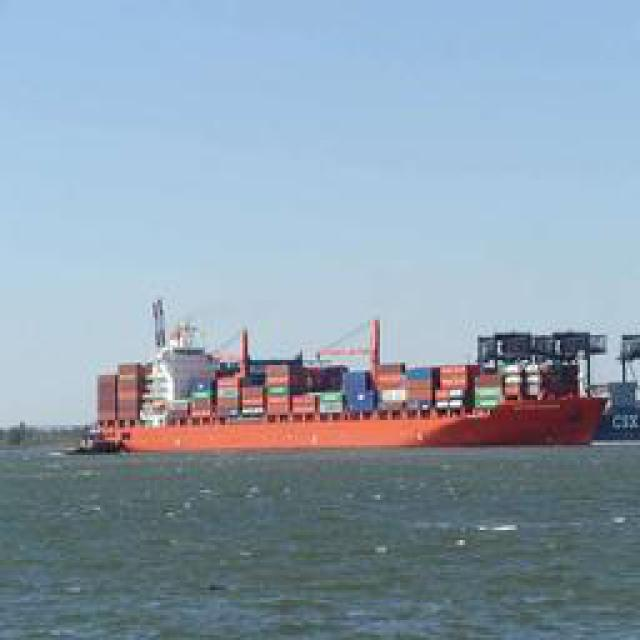Ship: (64, 303, 617, 458)
